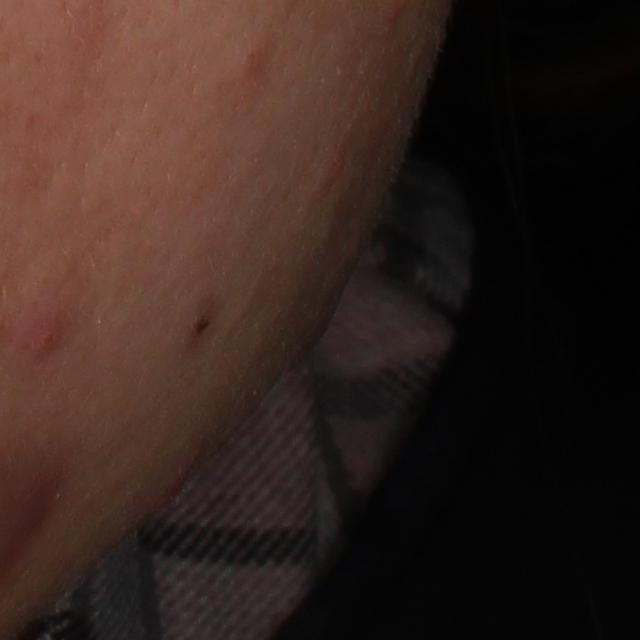papule: (25, 310, 76, 359)
